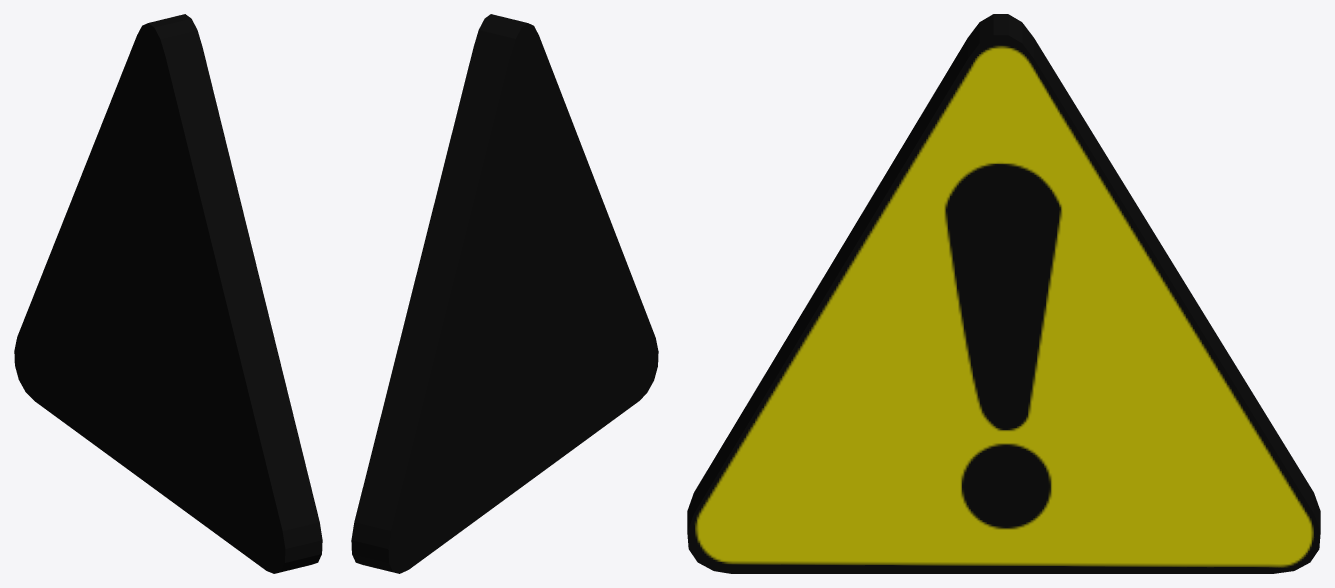
File: WarningSign.fbx
The picture shows the model from 3 angles, left to right: view 1: azimuth 30°, elevation 25°; view 2: azimuth 150°, elevation 25°; view 3: azimuth 270°, elevation 25°; orthographic projection. The views are drawn at different scales.
Parts seen in each view (by area): view 1: MSH_WarningSign; view 2: MSH_WarningSign; view 3: MSH_WarningSign.
Boxes of the visible parts, <box> form: MSH_WarningSign: <box>14,14,322,573</box>; MSH_WarningSign: <box>351,14,658,573</box>; MSH_WarningSign: <box>687,14,1320,573</box>.
Bounding box in the file's own units: 15.81 × 187 × 200.
1 material, 1 textured.
